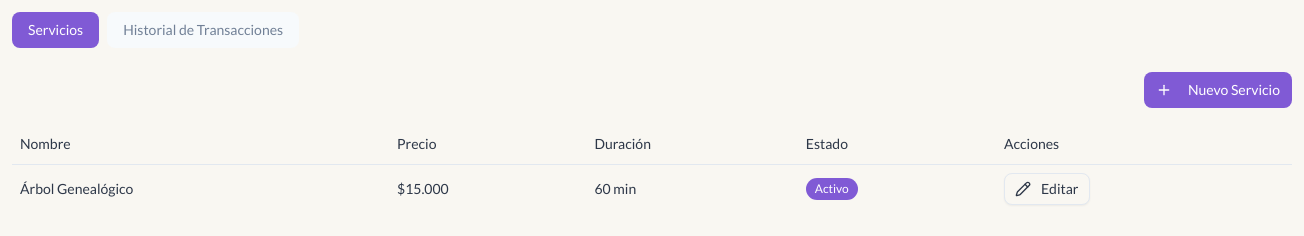
HolisticServicesManagement › should switch to Historial de Transacciones tab when clicked
The width and height of the screenshot is (1304, 236).
Click the tab "Historial de Transacciones" at (203, 30), box top-left (107, 12), bottom-right (299, 48)
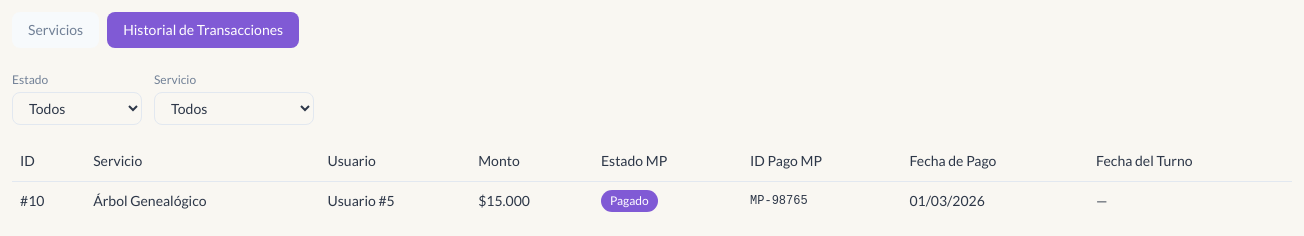
expect the element with test id "transactions-table" is shown: met
